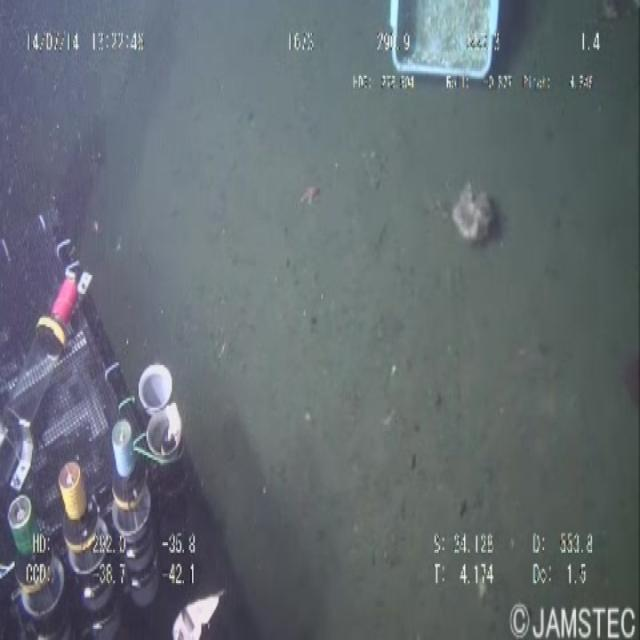Cutlery: (378, 0, 509, 112)
